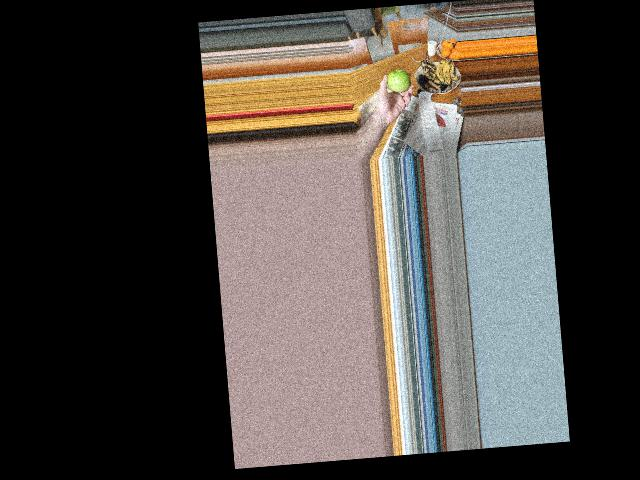apple: (384, 66, 412, 95)
